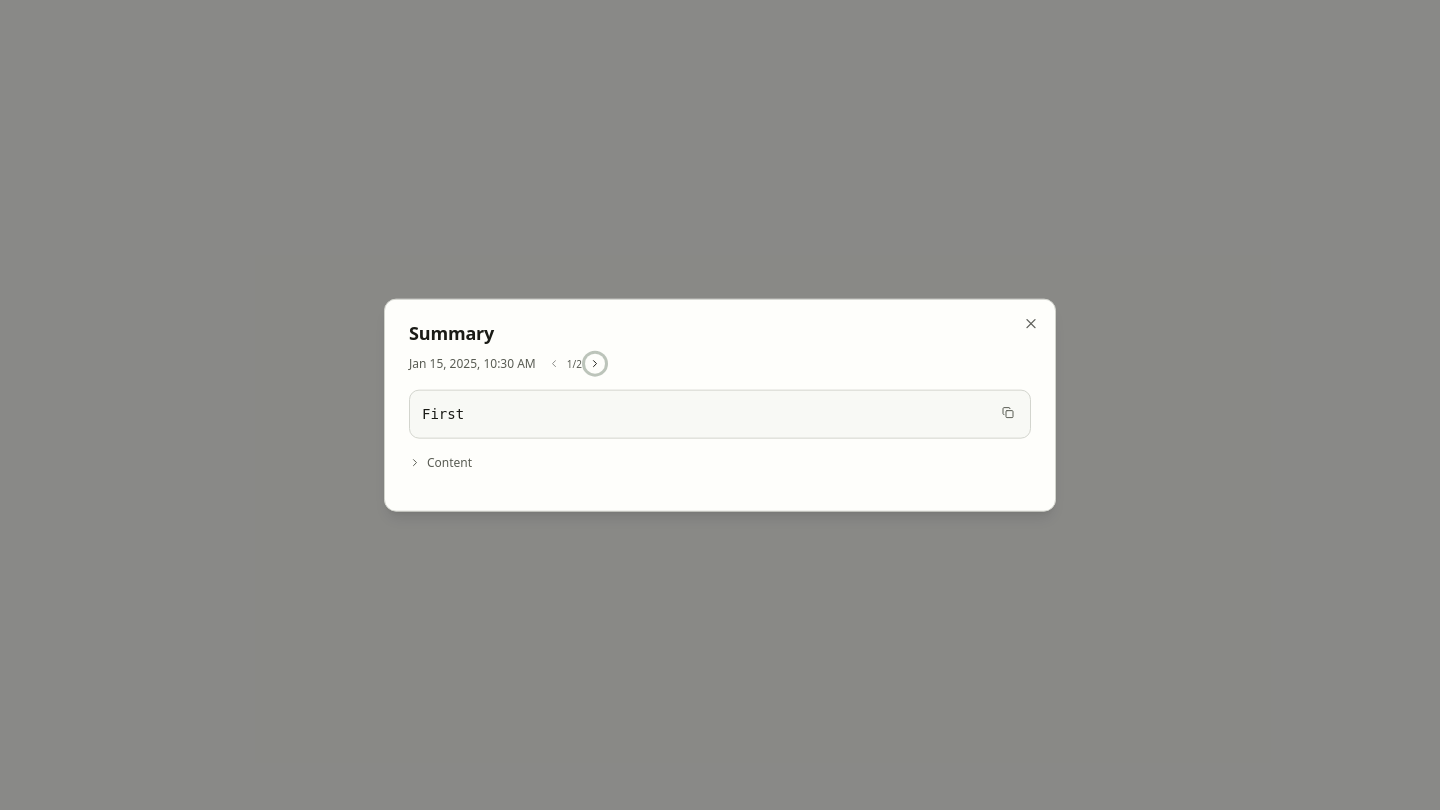
Test: SummaryViewerModal › navigates to next summary
Expected: the text "First" is shown, [422,406,464,422]
Click the button named "Next summary". click: point(595, 364)
box: [585,354,605,374]
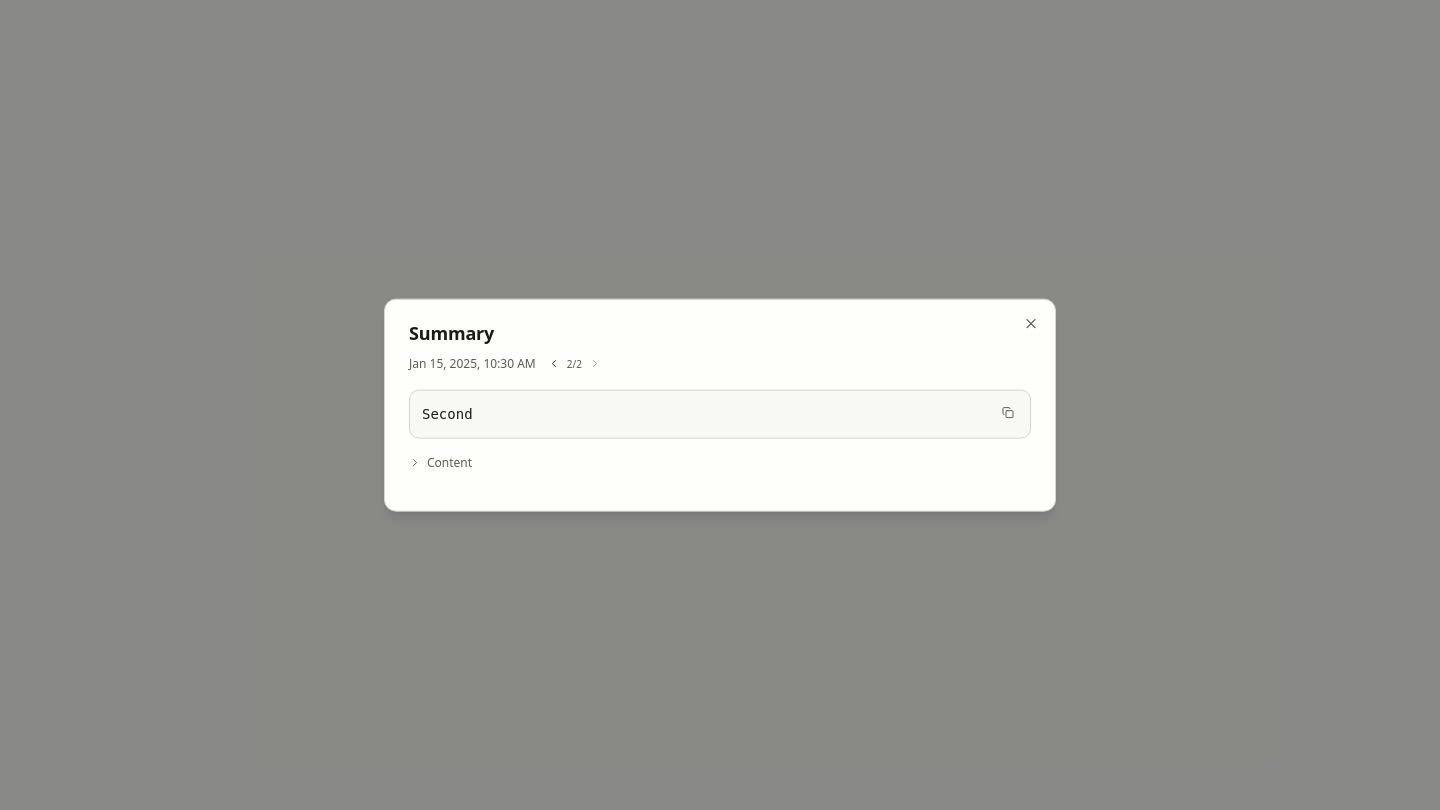
Now the text "Second" is shown, box [422,406,473,422]
Now the text "2/2" is shown, box [566,356,583,371]
